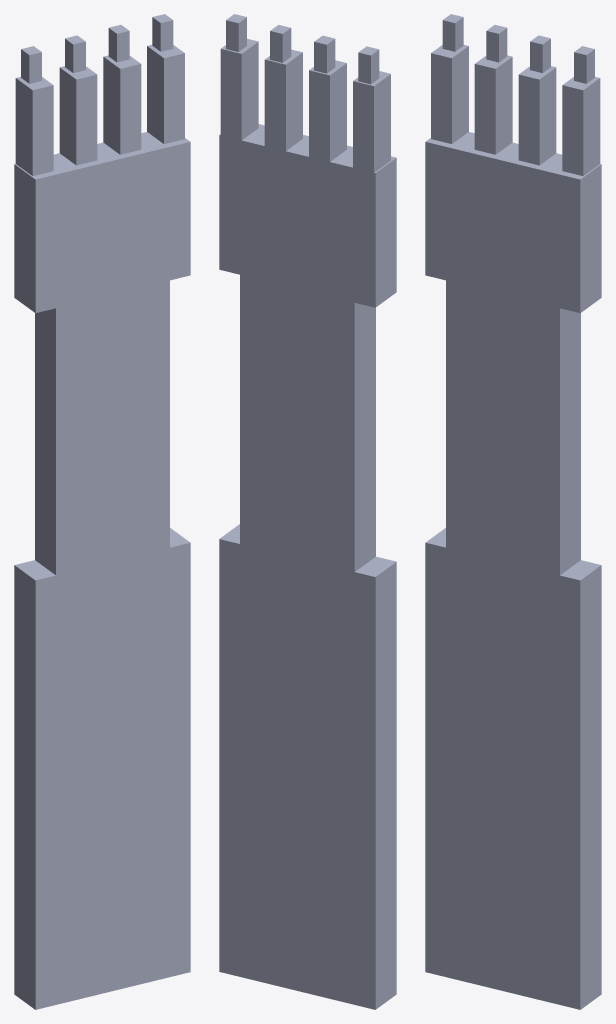
Rendered from fork.obj.
3 renders of one model, left to right at view 1: azimuth 30°, elevation 25°; view 2: azimuth 150°, elevation 25°; view 3: azimuth 330°, elevation 25°, orthographic.
Size of the model in its own units: 0.017 by 0.099 by 0.004.
